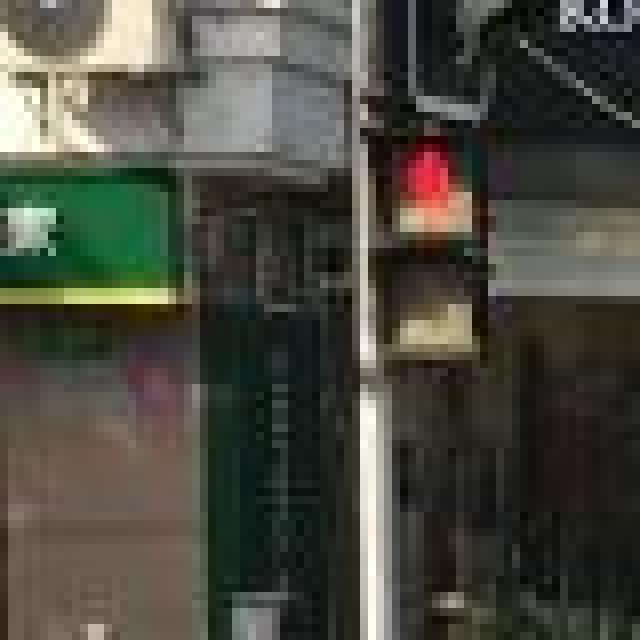redlight: (360, 120, 480, 360)
